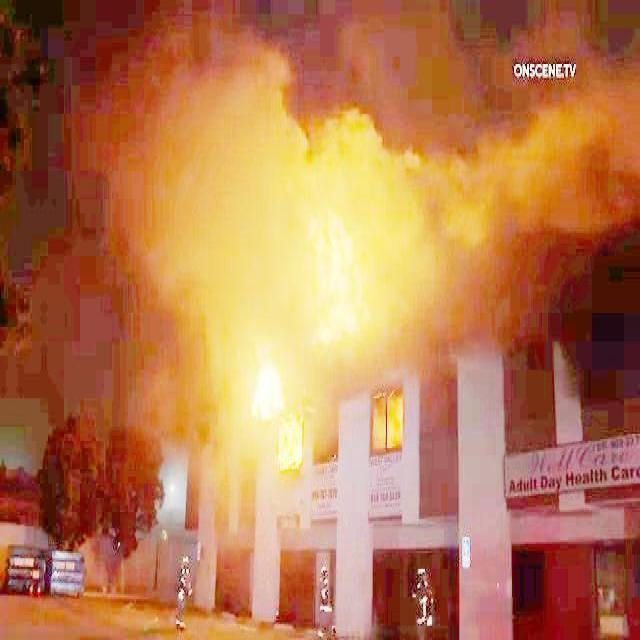Fire: (312, 212, 366, 340), (255, 361, 284, 418), (279, 425, 300, 466)
